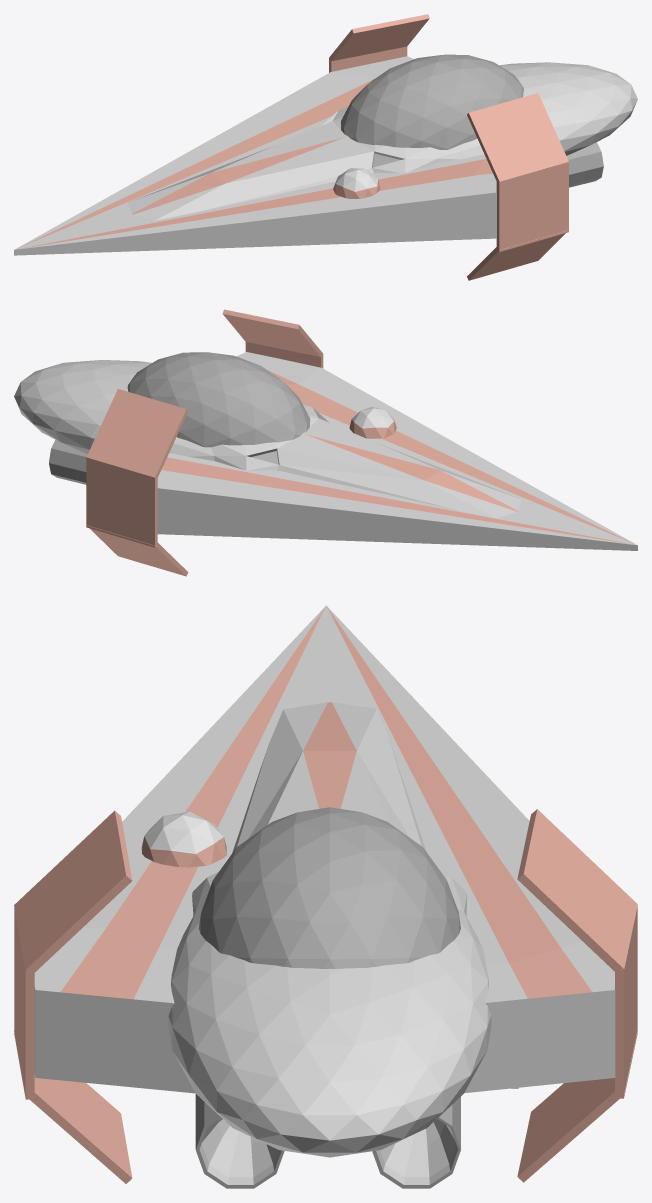
The model's file is kar — fly.fbx.
3 views of the same model, one above another, from view 1: azimuth 30°, elevation 25°; view 2: azimuth 150°, elevation 25°; view 3: azimuth 270°, elevation 25° (orthographic). The views are drawn at different scales.
Parts seen in each view (by area): view 1: Cube_2; view 2: Cube_2; view 3: Cube_2.
Part boxes in pixels (bbox=[...]): Cube_2: bbox=[14, 14, 637, 280]; Cube_2: bbox=[14, 309, 637, 576]; Cube_2: bbox=[14, 605, 637, 1188].
Size of the model in its own units: 1079 by 282 by 513.
